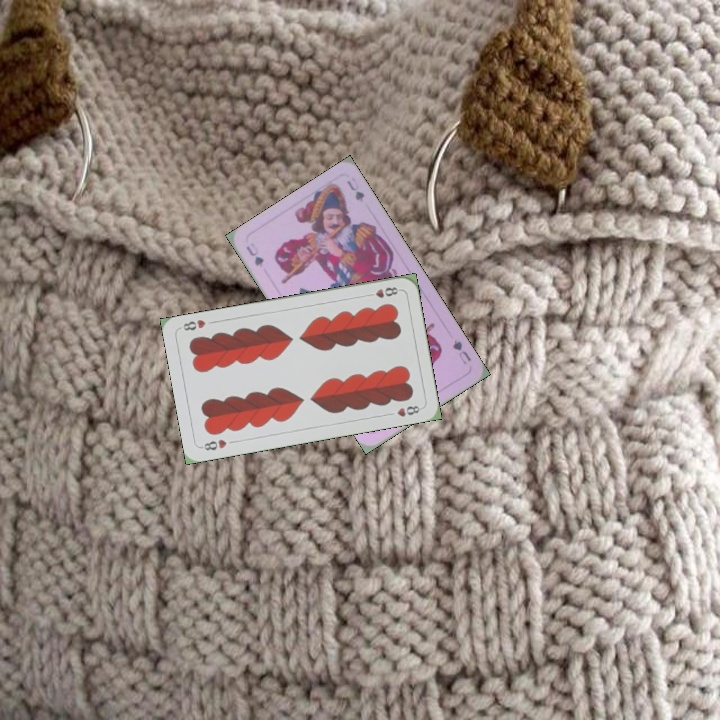GU: (449, 335, 474, 367), (242, 238, 267, 270)
H8: (362, 283, 402, 300), (198, 435, 229, 453)
